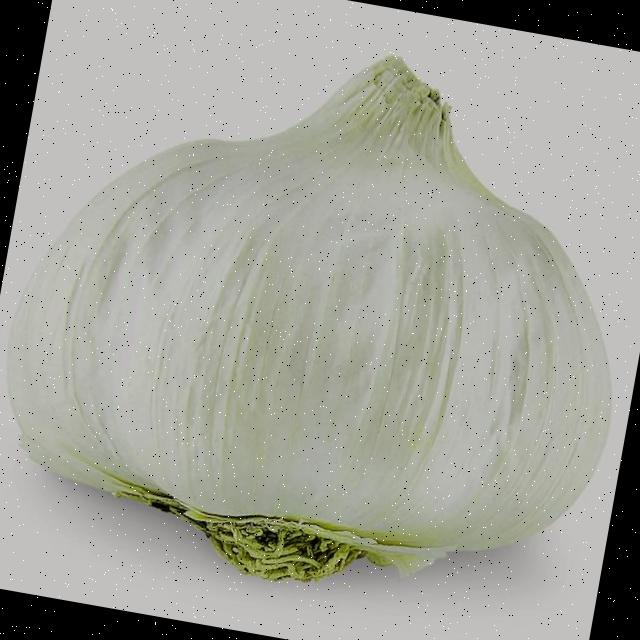garlic: (9, 57, 610, 579)
